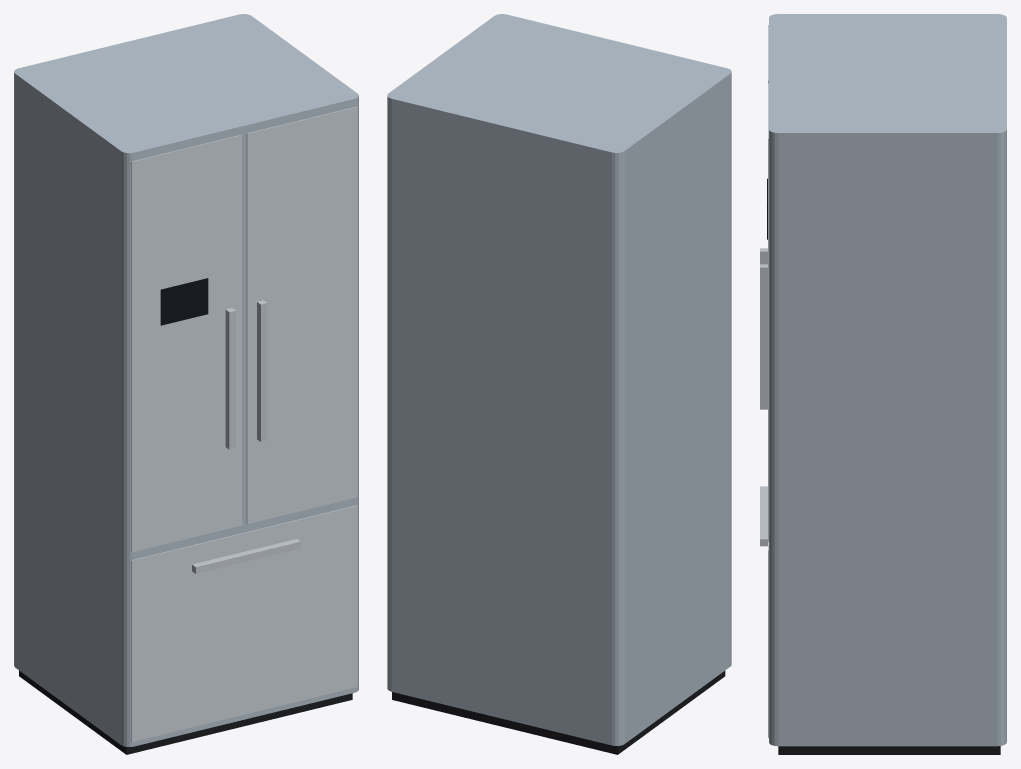
File: fridge_large.glb
The picture shows the model from 3 angles, left to right: view 1: azimuth 30°, elevation 25°; view 2: azimuth 150°, elevation 25°; view 3: azimuth 270°, elevation 25°; orthographic projection. The views are drawn at different scales.
Parts seen in each view (by area): view 1: fridge_large_Body; view 2: fridge_large_Body; view 3: fridge_large_Body.
Boxes of the visible parts, x1,y1,x2,y2 form: fridge_large_Body: (14, 14, 358, 754); fridge_large_Body: (387, 14, 731, 754); fridge_large_Body: (760, 14, 1006, 754).
Size of the model in its own units: 0.9 by 2.2 by 0.788.
